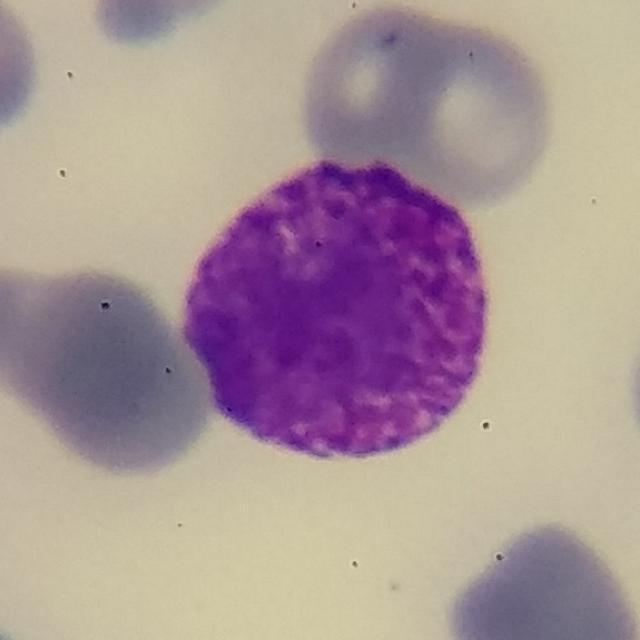baso: (179, 151, 502, 465)
